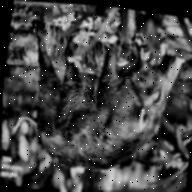boar: (7, 9, 189, 186)
